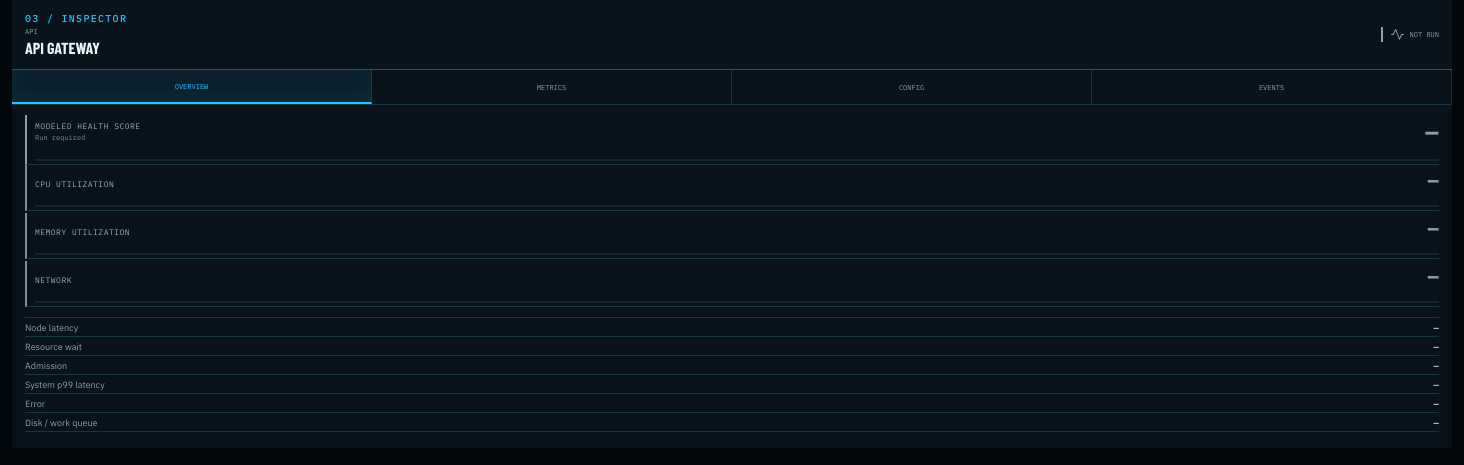
Test: advanced component behavior inspector › presents absent metrics as a not-run state
This screenshot has width=1464, height=465.
Expected: the text "not run" is shown, [1381, 27, 1439, 42]
Expected: the text "—" in the row of "Modeled health score" is shown, [1425, 116, 1439, 145]
Click the button "metrics": (552, 87) [372, 70, 732, 104]
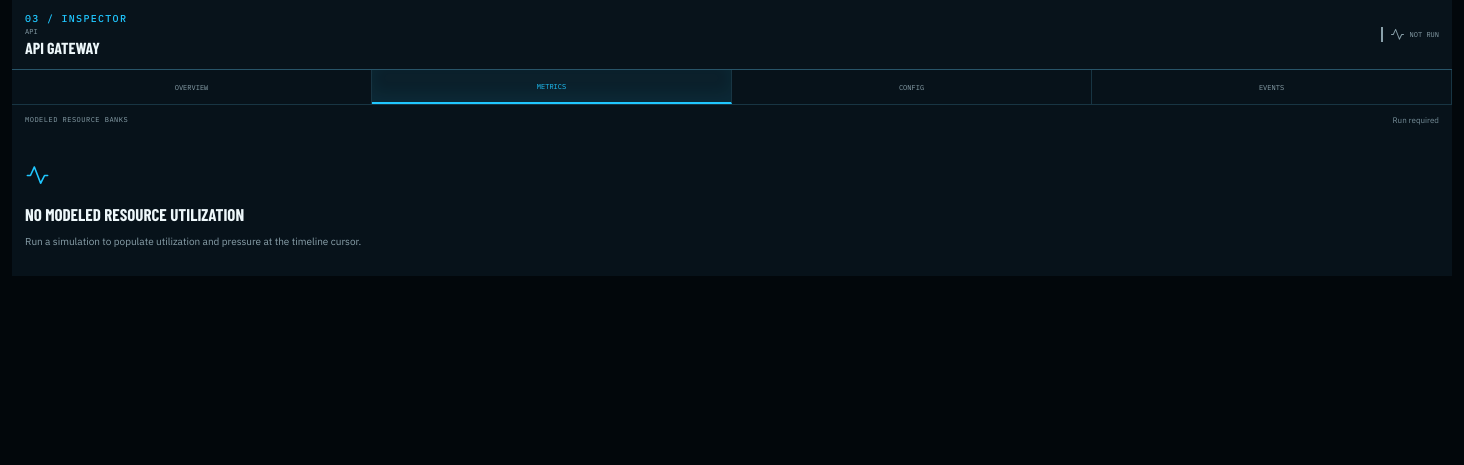
Result: the text "No modeled resource utilization" is shown at [25, 204, 244, 224]
Click the button "Events": (1272, 87) [1092, 70, 1452, 104]
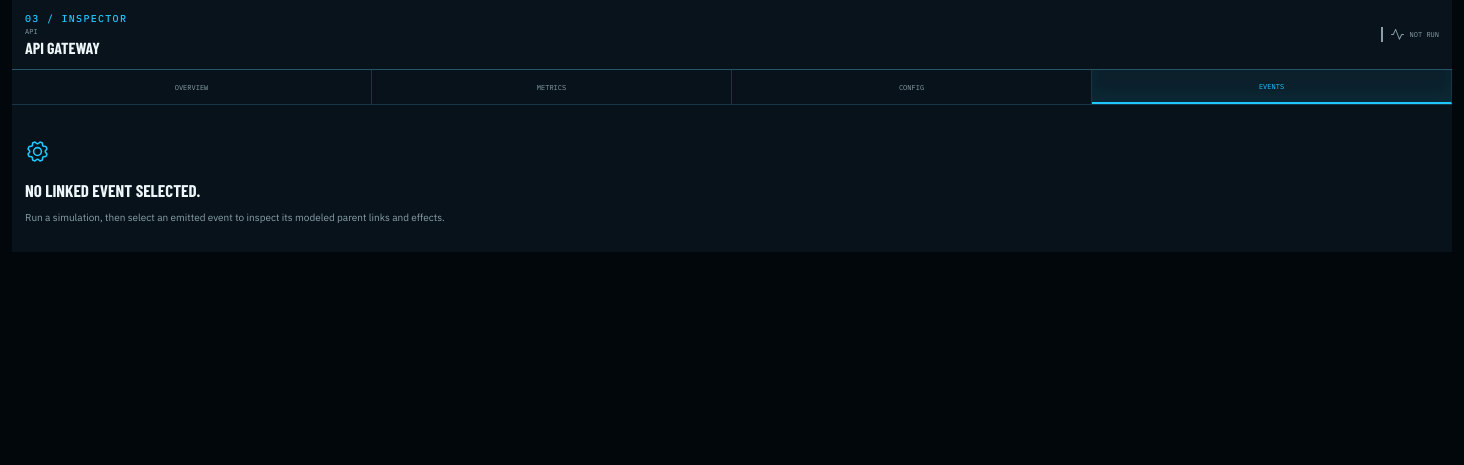
Result: the text "No linked event selected." is shown at [25, 180, 200, 200]
